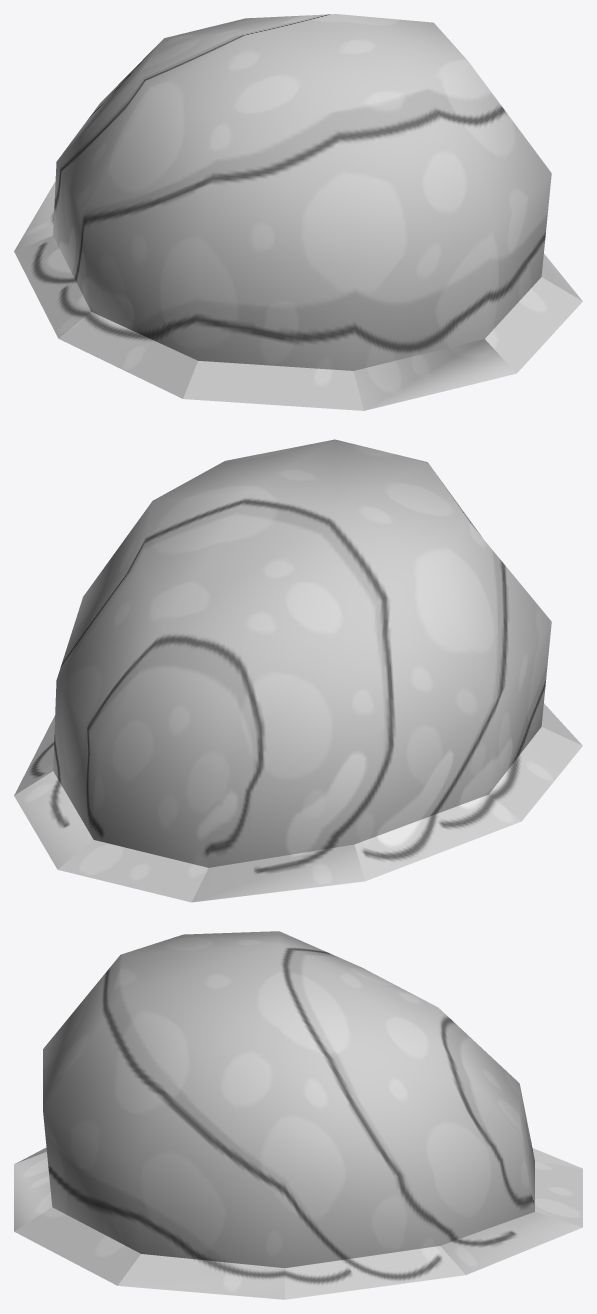
File: Slug.FBX
3 views of the same model, one above another, from view 1: azimuth 30°, elevation 25°; view 2: azimuth 150°, elevation 25°; view 3: azimuth 270°, elevation 25° (orthographic). The views are drawn at different scales.
Visible parts, largest first — view 1: Slug; view 2: Slug; view 3: Slug.
Boxes of the visible parts, bbox=[...] form: Slug: bbox=[14, 14, 582, 410]; Slug: bbox=[14, 439, 582, 902]; Slug: bbox=[14, 931, 582, 1299].
Bounding box in the file's own units: 102 × 54.56 × 120.
1 material, 1 textured.
